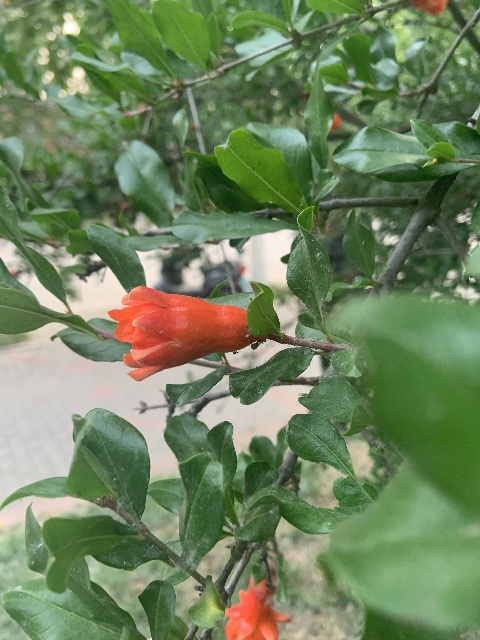flower: (107, 285, 256, 380), (224, 574, 290, 640)
